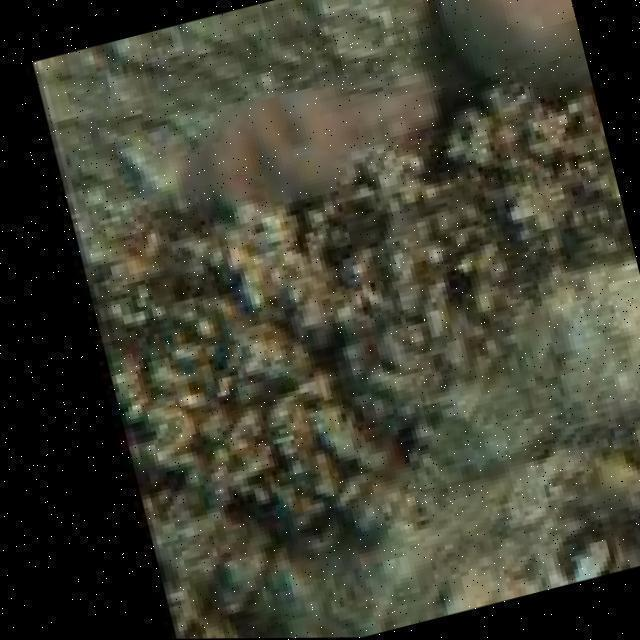Dead Coral: (68, 142, 640, 536)
